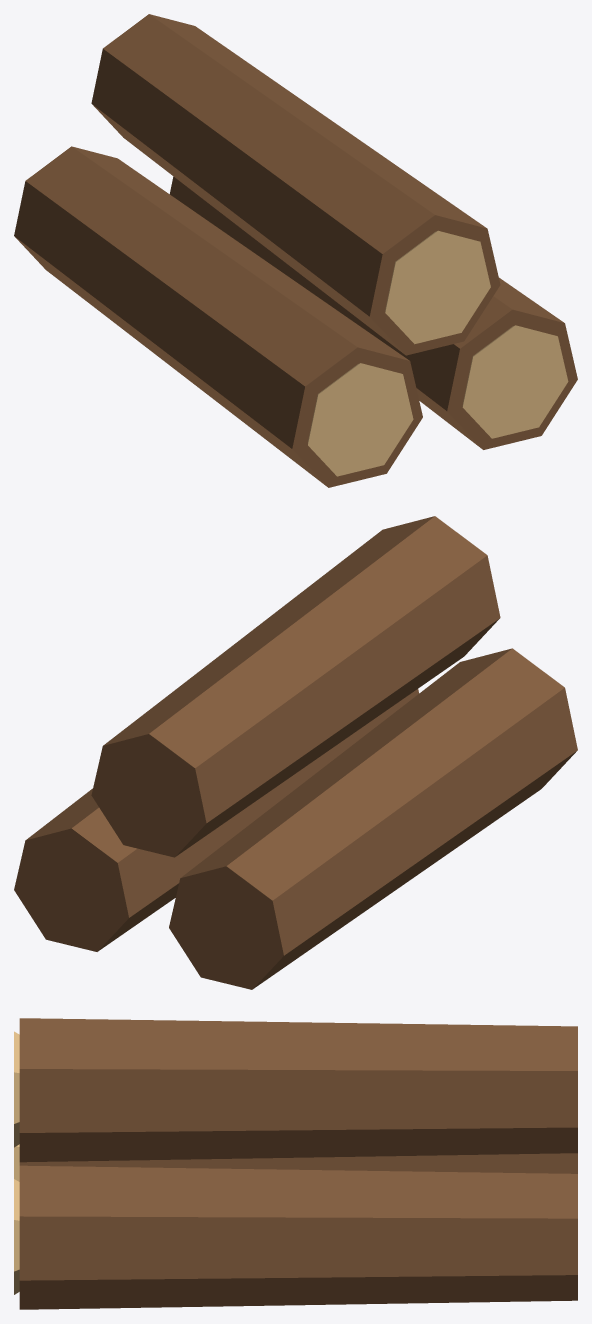
File: CC_ResourceWood.fbx
The picture shows the model from 3 angles, top to bottom: view 1: azimuth 30°, elevation 25°; view 2: azimuth 150°, elevation 25°; view 3: azimuth 270°, elevation 25°; orthographic projection. The views are drawn at different scales.
Visible parts, largest first — view 1: Branch.002, Branch, Branch.001, Cut end.001, Cut end.002, Cut end; view 2: Branch.002, Branch, Branch.001; view 3: Branch.002, Branch.001, Branch, Cut end.002, Cut end.001.
Boxes of the visible parts, <box> form: Branch.002: <box>91,14,500,355</box>; Branch: <box>14,146,422,487</box>; Branch.001: <box>170,176,577,449</box>; Cut end.001: <box>462,325,568,438</box>; Cut end.002: <box>385,230,490,344</box>; Cut end: <box>308,363,413,476</box>; Branch.002: <box>91,516,500,857</box>; Branch: <box>169,648,577,989</box>; Branch.001: <box>14,689,418,951</box>; Branch.002: <box>19,1018,577,1162</box>; Branch.001: <box>19,1165,577,1309</box>; Branch: <box>19,1153,577,1173</box>; Cut end.002: <box>14,1031,19,1147</box>; Cut end.001: <box>14,1179,19,1294</box>.
Size of the model in its own units: 0.5535 by 0.4571 by 0.97.
